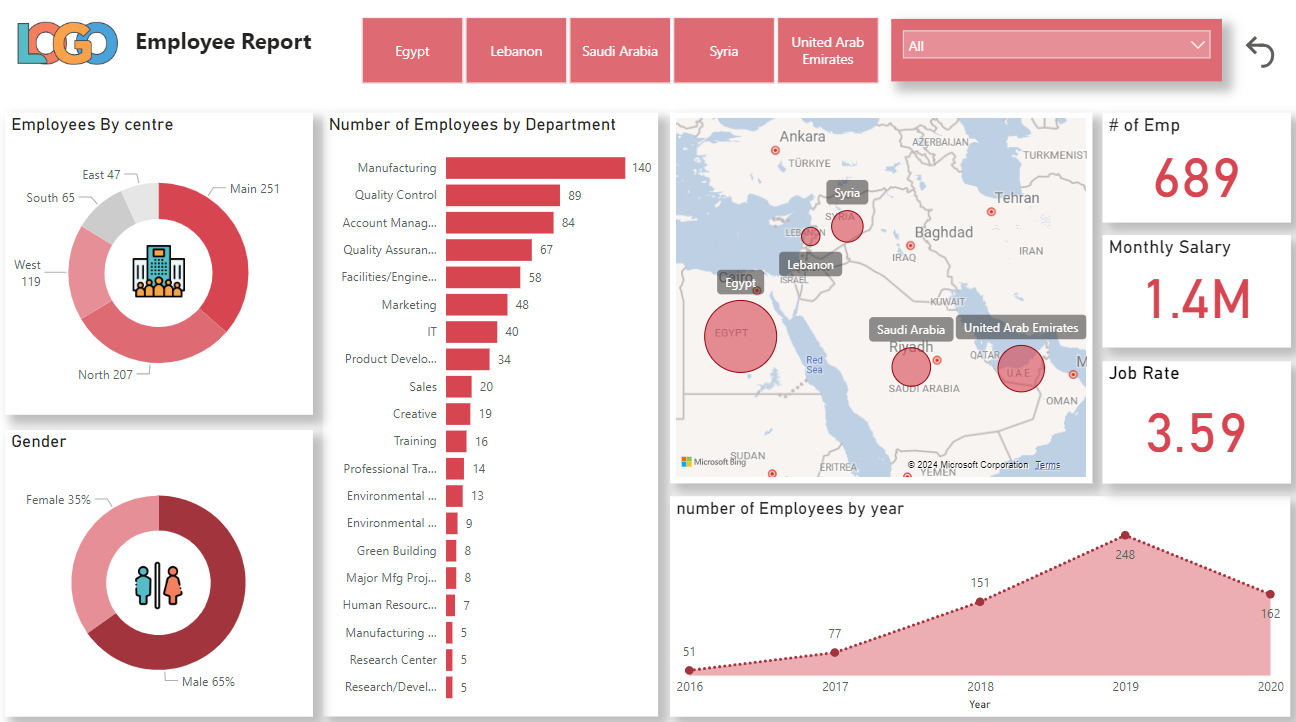

The dashboard page shown, as its layout file describes it:
{"tool":"powerbi","page":{"name":"Page 1","canvas":[1280,720],"ordinal":0},"visuals":[{"type":"clusteredBarChart","title":"Number of Employees by Department","fields":{"Category":["EmpTable.Department"],"Y":["CountNonNull(EmpTable.No)"]},"box":[321.1,116.6,328,590.1],"z":0},{"type":"donutChart","title":"Employees By centre","fields":{"Category":["EmpTable.Center"],"Y":["CountNonNull(EmpTable.No)"]},"box":[11,116.6,300.5,295],"z":1000},{"type":"donutChart","title":"Gender","fields":{"Category":["EmpTable.Gender"],"Y":["CountNonNull(EmpTable.Gender)"]},"box":[11,426.8,300.5,279.9],"z":2000},{"type":"map","fields":{"Category":["EmpTable.Country"],"Size":["Sum(EmpTable.No)"]},"box":[661.4,116.6,413,362.3],"z":3000},{"type":"areaChart","title":"number of Employees by year","fields":{"Category":["EmpTable.Start Date.Variation.Date Hierarchy.Year","EmpTable.Start Date.Variation.Date Hierarchy.Quarter","EmpTable.Start Date.Variation.Date Hierarchy.Month","EmpTable.Start Date.Variation.Date Hierarchy.Day"],"Y":["CountNonNull(EmpTable.No)"]},"box":[661.4,491.3,606.5,215.4],"z":4000},{"type":"card","title":"# of Emp","fields":{"Values":["CountNonNull(EmpTable.No)"]},"box":[1084.1,116.6,183.9,107],"z":5000},{"type":"card","title":"Monthly Salary","fields":{"Values":["Sum(EmpTable.Monthly Salary)"]},"box":[1084.1,236,183.9,109.8],"z":5001},{"type":"card","title":"Job Rate","fields":{"Values":["Avg(EmpTable.Job Rate)"]},"box":[1084.1,359.5,183.9,119.4],"z":5002},{"type":"slicer","fields":{"Values":["EmpTable.Country"]},"box":[332.6,14.7,557.6,80.7],"z":5003},{"type":"slicer","fields":{"Values":["EmpTable.Center"]},"box":[878,24.5,322.8,61.1],"z":5004},{"type":"textbox","box":[133.3,25.7,199.3,52.6],"z":5005},{"type":"image","box":[12.2,0,118.6,95.4],"z":5006},{"type":"image","box":[133.3,549.1,56.3,59.9],"z":5007},{"type":"image","box":[130.8,236,61.1,69.7],"z":5008},{"type":"actionButton","box":[1217.9,26.9,41.6,58.7],"z":5009}]}

Visuals, with their boxes in screenshot pixels (x1, y1, x2, y2), scaled from the page's 1280x720 canvas onto the 1296x722 screenshot:
"Number of Employees by Department" clusteredBarChart: [x1=325, y1=117, x2=657, y2=709]
"Employees By centre" donutChart: [x1=11, y1=117, x2=315, y2=413]
"Gender" donutChart: [x1=11, y1=428, x2=315, y2=709]
map - EmpTable.Country x Sum(EmpTable.No): [x1=670, y1=117, x2=1088, y2=480]
"number of Employees by year" areaChart: [x1=670, y1=493, x2=1284, y2=709]
"# of Emp" card: [x1=1098, y1=117, x2=1284, y2=224]
"Monthly Salary" card: [x1=1098, y1=237, x2=1284, y2=347]
"Job Rate" card: [x1=1098, y1=360, x2=1284, y2=480]
slicer - EmpTable.Country: [x1=337, y1=15, x2=901, y2=96]
slicer - EmpTable.Center: [x1=889, y1=25, x2=1216, y2=86]
textbox: [x1=135, y1=26, x2=337, y2=79]
image: [x1=12, y1=0, x2=132, y2=96]
image: [x1=135, y1=551, x2=192, y2=611]
image: [x1=132, y1=237, x2=194, y2=307]
actionButton: [x1=1233, y1=27, x2=1275, y2=86]
